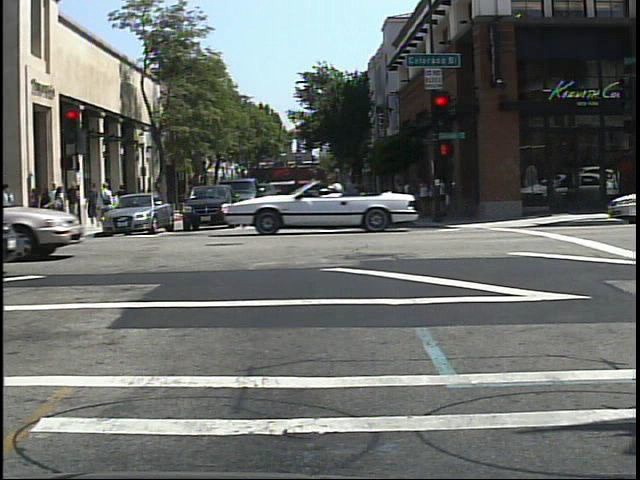person: (97, 179, 116, 225)
